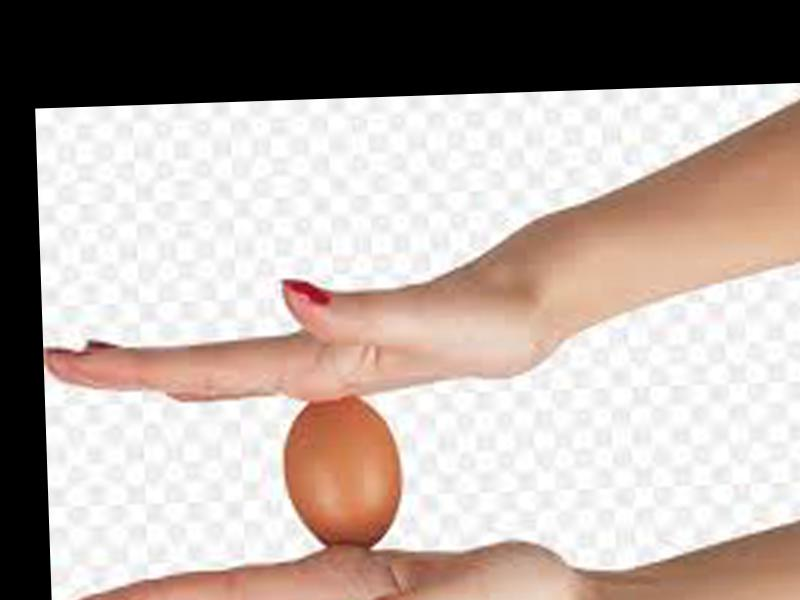Eggs: (285, 394, 403, 548)
